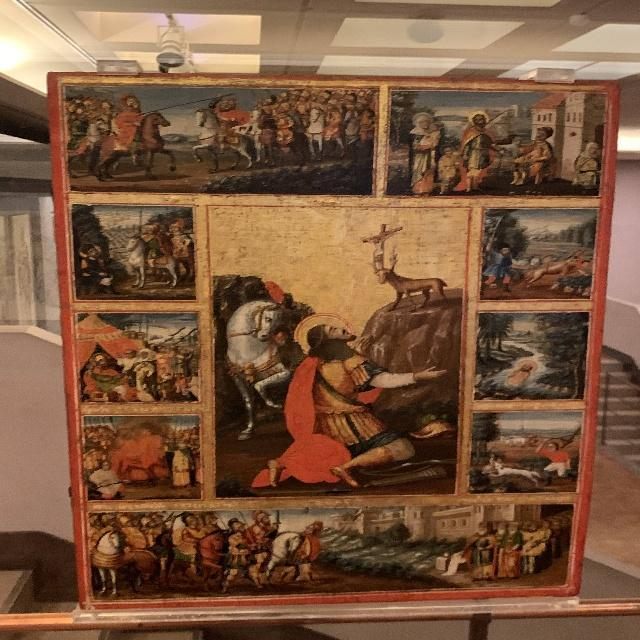aura: (296, 312, 357, 354)
christ_crucifixion: (363, 224, 404, 264)
horse: (222, 304, 284, 432)
saint: (297, 309, 398, 479)
